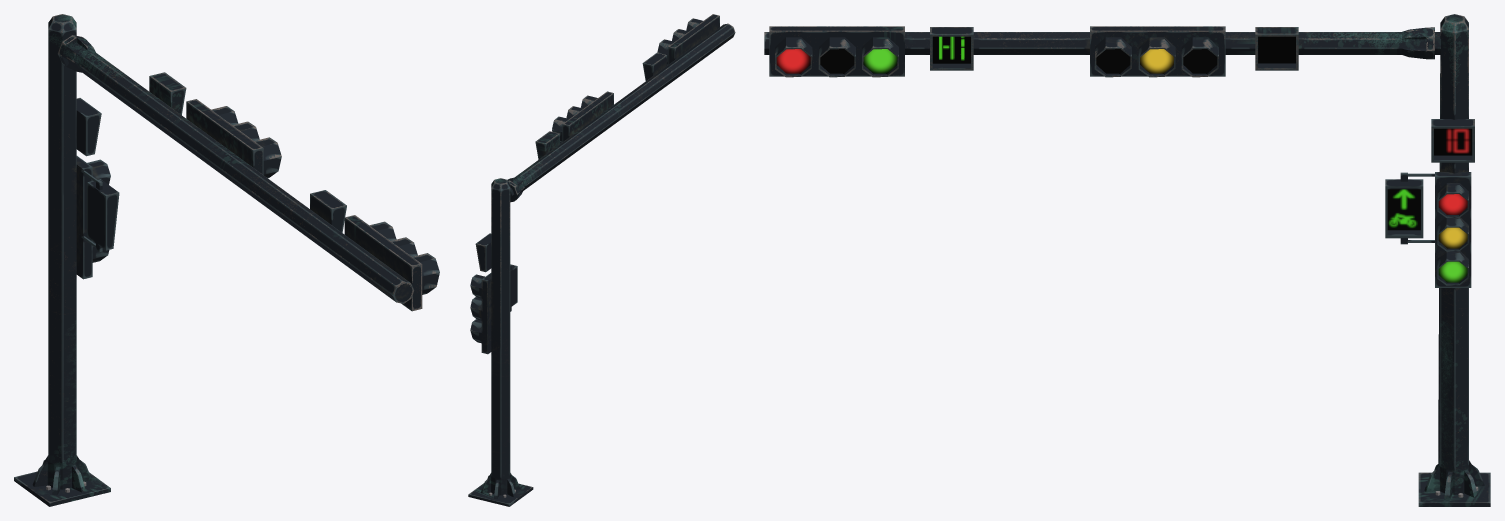
File: TrafficLight_Upgrade_03.fbx
3 renders of one model, left to right at view 1: azimuth 30°, elevation 25°; view 2: azimuth 150°, elevation 25°; view 3: azimuth 270°, elevation 25°, orthographic. The views are drawn at different scales.
Parts seen in each view (by area): view 1: Low; view 2: Low; view 3: Low.
Part boxes in pixels (x1,y1,x2,y2): Low: (14,14,439,506); Low: (468,14,735,506); Low: (764,14,1490,506).
Size of the model in its own units: 16.2 by 98.76 by 137.
